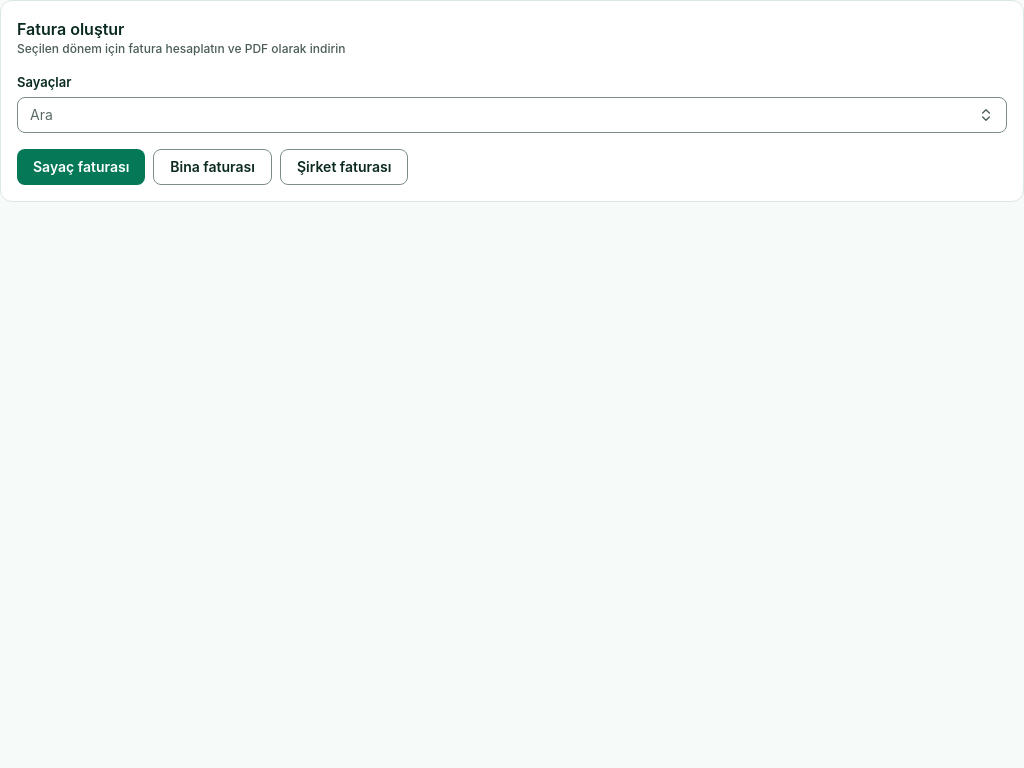
Test: GenerateCardView › offers the analyzers with their installation number and customer
Click the dropdown named "Sayaçlar" at coordinates (41, 114), box [17,97,1007,133]
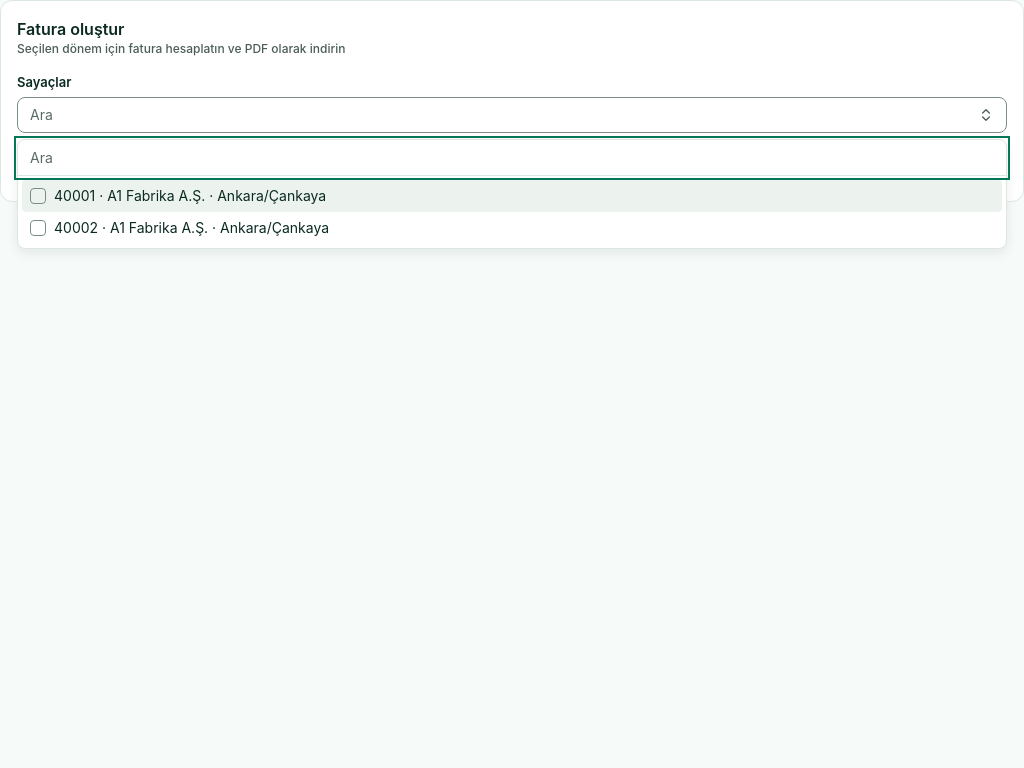
Check: the option "40001 · A1 Fabrika A.Ş. · Ankara/Çankaya" is shown, box [22,180,1002,212]
